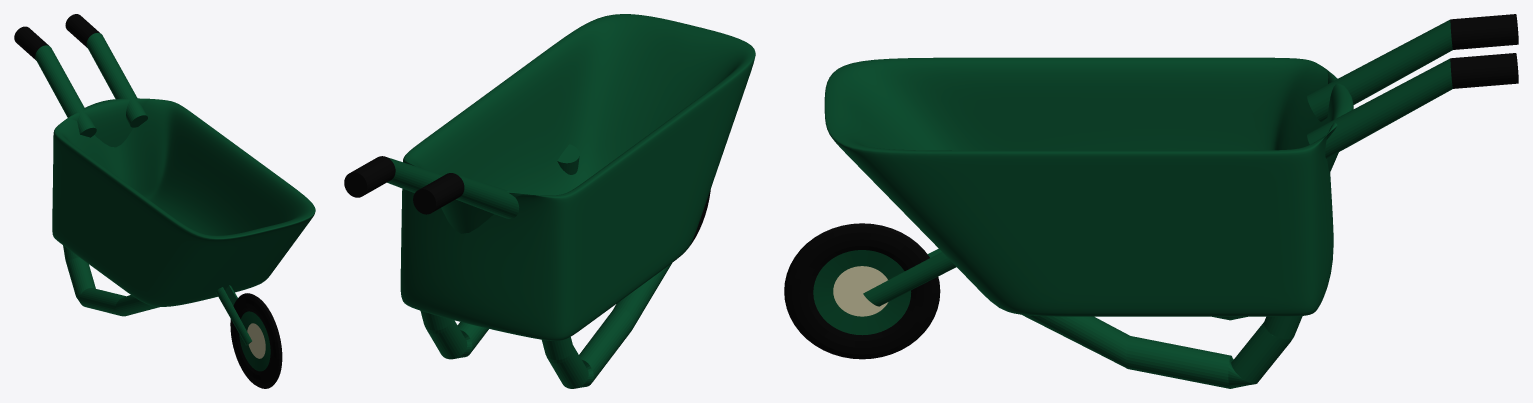
File: kruiwagen.fbx
The picture shows the model from 3 angles, left to right: view 1: azimuth 30°, elevation 25°; view 2: azimuth 150°, elevation 25°; view 3: azimuth 270°, elevation 25°; orthographic projection. The views are drawn at different scales.
Parts seen in each view (by area): view 1: Plane, Torus, Cylinder.002, Cylinder.003, Cylinder.004, Torus.003, Cylinder, Cylinder.005, Cylinder.006, Torus.002; view 2: Plane, Cylinder.002, Cylinder.001, Cylinder.004, Cylinder.005, Cylinder.006, Cylinder.003; view 3: Plane, Torus, Cylinder.001, Cylinder.003, Cylinder.004, Torus.001, Cylinder.005, Cylinder.006, Torus.002, Cylinder.
Part boxes in pixels (<box>): Plane: <box>52,98,315,306</box>; Torus: <box>230,293,282,388</box>; Cylinder.002: <box>63,245,159,316</box>; Cylinder.003: <box>86,33,147,127</box>; Cylinder.004: <box>35,45,96,137</box>; Torus.003: <box>239,311,270,371</box>; Cylinder: <box>216,285,251,345</box>; Cylinder.005: <box>14,26,48,60</box>; Cylinder.006: <box>65,14,100,47</box>; Torus.002: <box>247,323,265,358</box>; Plane: <box>400,14,755,340</box>; Cylinder.002: <box>542,263,671,388</box>; Cylinder.001: <box>420,144,579,359</box>; Cylinder.004: <box>456,174,519,218</box>; Cylinder.005: <box>413,173,464,214</box>; Cylinder.006: <box>344,156,395,197</box>; Cylinder.003: <box>387,157,439,192</box>; Plane: <box>824,57,1353,316</box>; Torus: <box>784,223,940,359</box>; Cylinder.001: <box>1022,315,1302,388</box>; Cylinder.003: <box>1307,58,1452,158</box>; Cylinder.004: <box>1307,19,1452,121</box>; Torus.001: <box>813,250,911,335</box>; Cylinder.005: <box>1450,14,1518,49</box>; Cylinder.006: <box>1450,53,1518,88</box>; Torus.002: <box>833,266,888,316</box>; Cylinder: <box>863,248,956,306</box>.
Size of the model in its own units: 238 by 375 by 765.
